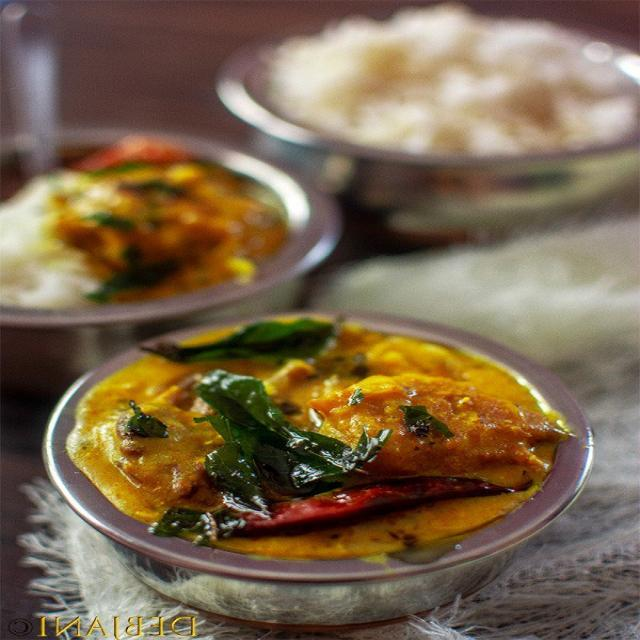Kadhi Pakora: (67, 320, 570, 566)
